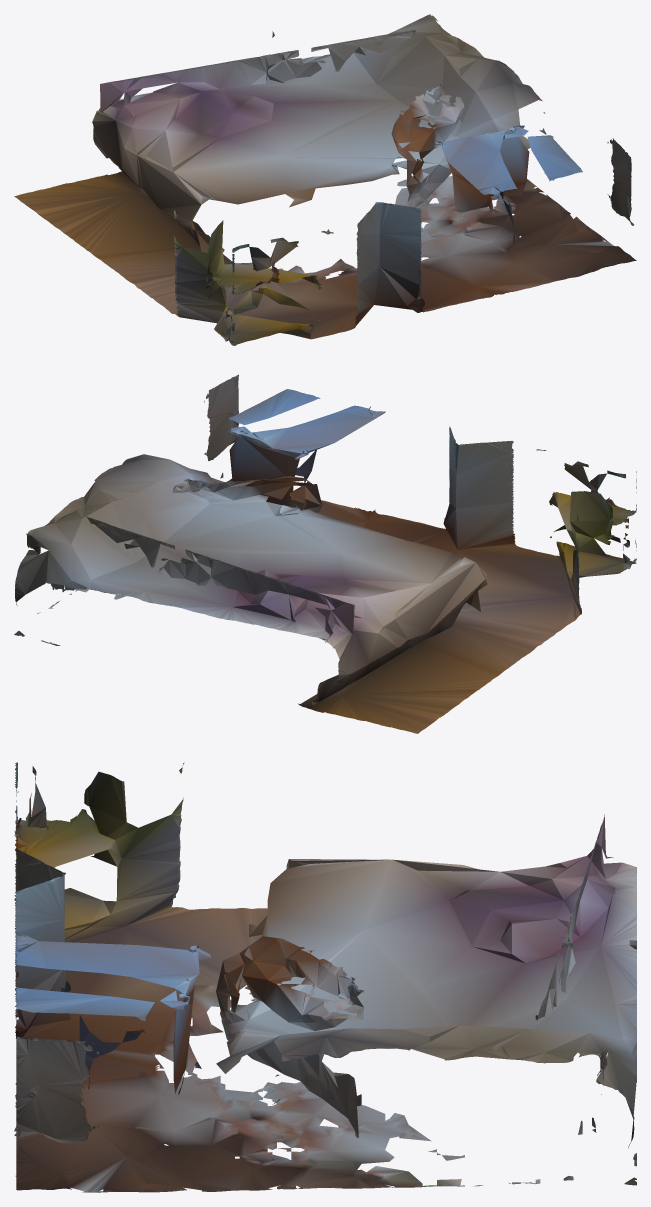
The model's file is coarse.glb.
3 renders of one model, top to bottom at view 1: azimuth 30°, elevation 25°; view 2: azimuth 150°, elevation 25°; view 3: azimuth 270°, elevation 25°, orthographic. The views are drawn at different scales.
Size of the model in its own units: 2.49 by 0.6353 by 2.35.
